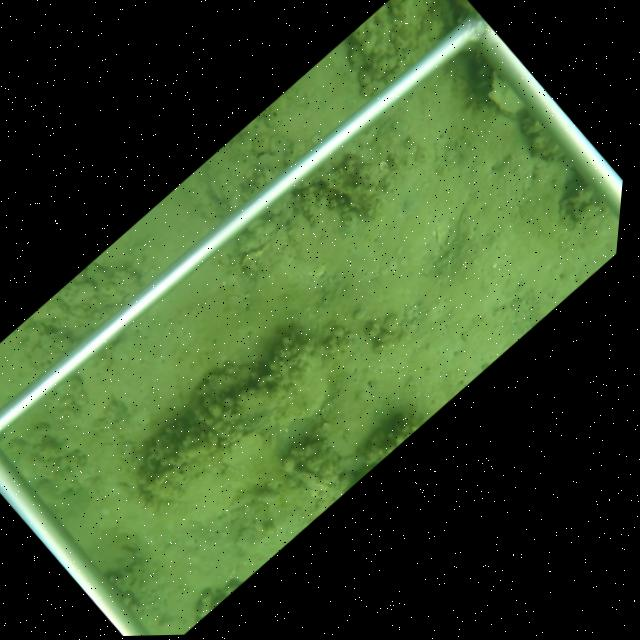Oyster-Closed: (484, 70, 527, 123)
Oyster-Indeterminate: (321, 370, 375, 461), (279, 353, 329, 420)
